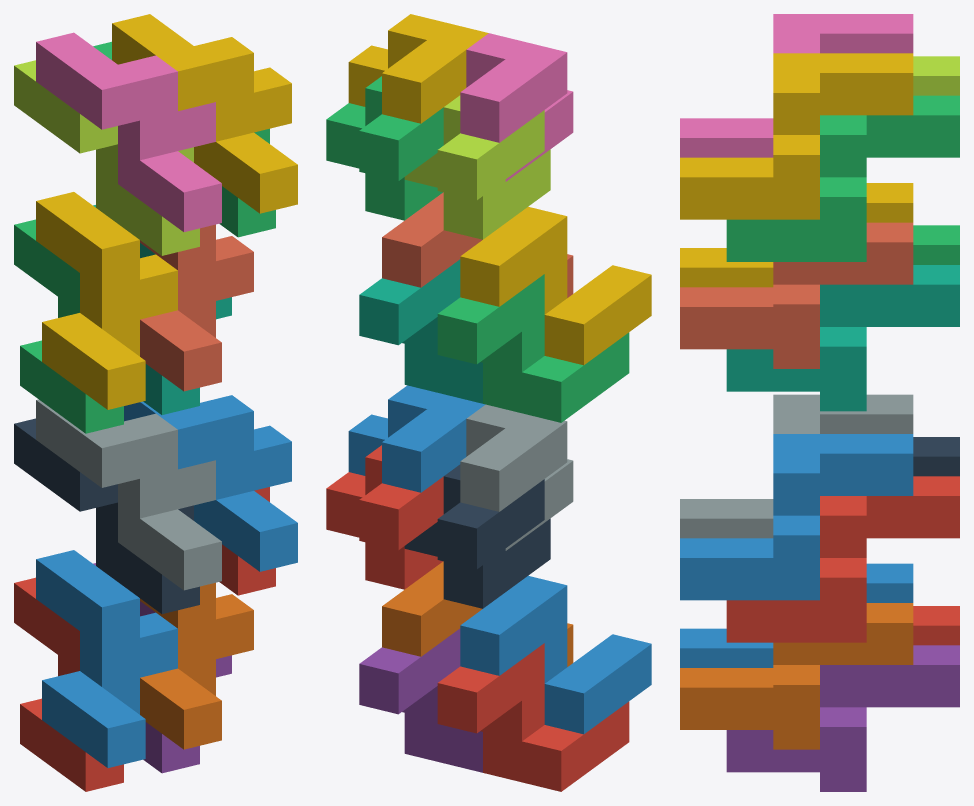
The model's file is tiling.obj.
The picture shows the model from 3 angles, left to right: view 1: azimuth 30°, elevation 25°; view 2: azimuth 150°, elevation 25°; view 3: azimuth 270°, elevation 25°; orthographic projection. The views are drawn at different scales.
Visible parts, largest first — view 1: copy_2_domain_4, copy_1_domain_4, copy_1_domain_2, copy_2_domain_2, copy_2_domain_8, copy_2_domain_6, copy_1_domain_6, copy_1_domain_8, copy_2_domain_3, copy_2_domain_1, copy_1_domain_3, copy_1_domain_1 (+4 smaller); view 2: copy_1_domain_2, copy_1_domain_4, copy_1_domain_1, copy_1_domain_3, copy_2_domain_1, copy_2_domain_3, copy_2_domain_4, copy_2_domain_2, copy_2_domain_5, copy_2_domain_7, copy_2_domain_8, copy_2_domain_6 (+4 smaller); view 3: copy_2_domain_8, copy_2_domain_6, copy_2_domain_5, copy_2_domain_7, copy_1_domain_8, copy_1_domain_6, copy_1_domain_5, copy_1_domain_7, copy_2_domain_4, copy_2_domain_2, copy_1_domain_4, copy_1_domain_2 (+4 smaller).
Boxes of the visible parts, x1,y1,x2,y2 form: copy_2_domain_4: (36,32,221,231); copy_1_domain_4: (36,192,177,409); copy_1_domain_2: (36,550,177,767); copy_2_domain_2: (36,399,221,590); copy_2_domain_8: (112,14,297,213); copy_2_domain_6: (124,395,297,571); copy_1_domain_6: (140,582,253,749); copy_1_domain_8: (140,224,253,391); copy_2_domain_3: (14,60,199,255); copy_2_domain_1: (14,418,199,613); copy_1_domain_3: (14,219,123,433); copy_1_domain_1: (14,577,123,791); copy_1_domain_2: (460,575,651,734); copy_1_domain_4: (460,206,651,365); copy_1_domain_1: (437,643,629,791); copy_1_domain_3: (437,274,629,422); copy_2_domain_1: (404,464,550,608); copy_2_domain_3: (404,95,550,239); copy_2_domain_4: (460,33,573,181); copy_2_domain_2: (460,404,573,550); copy_2_domain_5: (326,445,443,589); copy_2_domain_7: (326,76,443,220); copy_2_domain_8: (348,14,488,123); copy_2_domain_6: (348,385,485,492); copy_2_domain_8: (680,53,913,219); copy_2_domain_6: (680,434,913,600); copy_2_domain_5: (726,476,959,642); copy_2_domain_7: (726,95,959,261); copy_1_domain_8: (680,222,913,368); copy_1_domain_6: (680,603,913,749); copy_1_domain_5: (726,645,959,791); copy_1_domain_7: (726,265,959,411); copy_2_domain_4: (680,14,913,157); copy_2_domain_2: (680,394,913,538); copy_1_domain_4: (680,183,913,287); copy_1_domain_2: (680,563,913,667).
Size of the model in its own units: 6 by 17 by 6.
